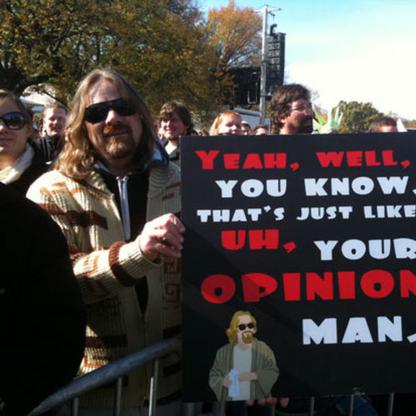face: (85, 86, 143, 158), (1, 102, 26, 153), (288, 99, 313, 133), (162, 113, 186, 140), (46, 111, 67, 136), (222, 118, 242, 139), (239, 320, 254, 340), (241, 128, 252, 143), (258, 131, 269, 142)
